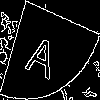A: (24, 25, 63, 81)
